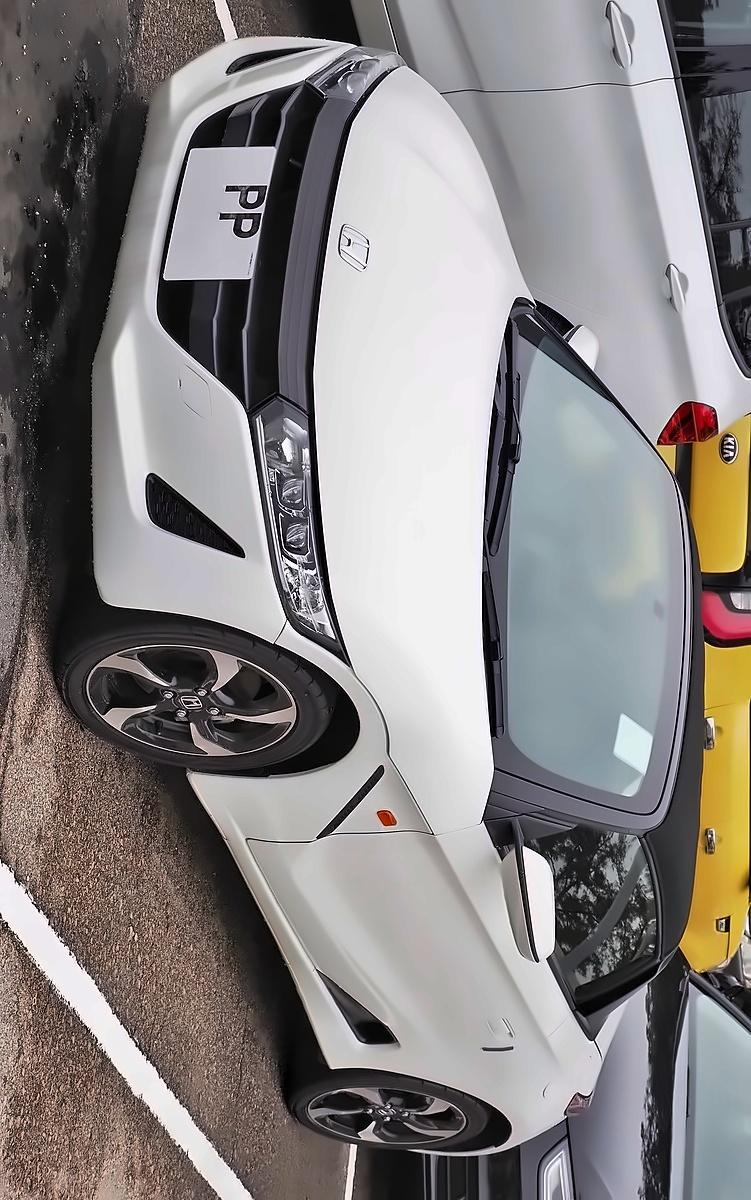Car hood: (304, 60, 532, 825)
Fender - -F-L-: (182, 600, 411, 847)
Fender - -R-L-: (367, 989, 641, 1166)
Front bumper: (86, 34, 333, 646)
Headlight - -L-: (248, 396, 342, 656)
Headlight - -R-: (318, 34, 406, 107)
Passenger-s door - -F-L-: (166, 790, 687, 987)
Side bumper - -L-: (154, 754, 378, 1110)
Side mirror - -L-: (490, 804, 566, 967)
